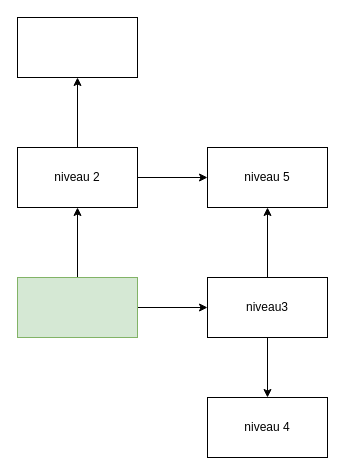
This 345x475 diagram has some shape labels left out. The shapes that lost their labels are listed below. From the top down, each one's centre as x and y in pixels, then its label:
the point at 77,47: niveau 6
the point at 77,307: niveau1
